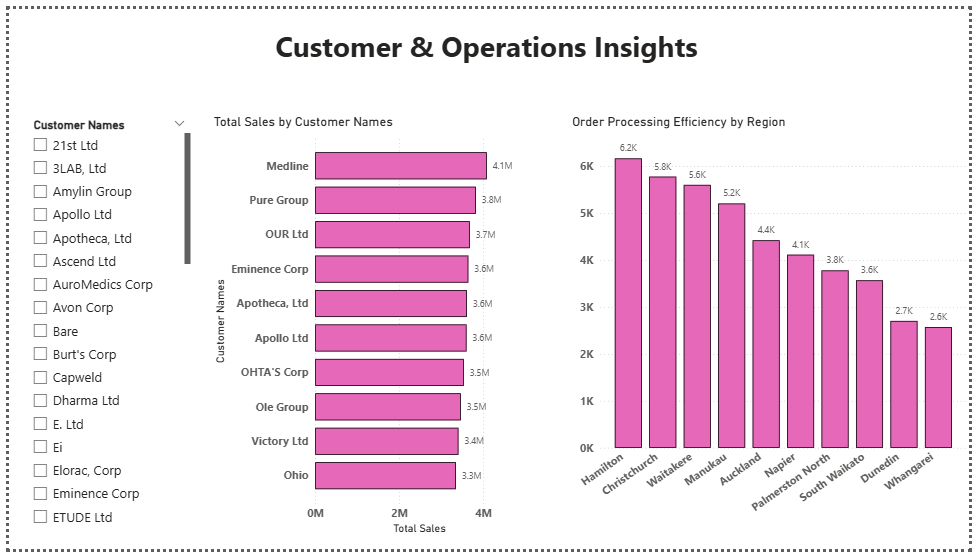

The dashboard page shown, as its layout file describes it:
{"tool":"powerbi","page":{"name":"Customer & Operations Insights","canvas":[1280,720],"ordinal":2},"visuals":[{"type":"slicer","fields":{"Values":["Customers.Customer Names"]},"box":[20,140,226.7,551.7],"z":1000},{"type":"clusteredColumnChart","title":"Order Processing Efficiency by Region","fields":{"Category":["Regions.City"],"Y":["Sum(Sales.Order Processing Days)"]},"box":[745,140,535,551.7],"z":4000},{"type":"clusteredBarChart","fields":{"Category":["Customers.Customer Names"],"Y":["Sales.Total Sales"]},"box":[268.3,140,435,565],"z":4001},{"type":"textbox","box":[20,18.3,1233.3,93.3],"z":4002}]}

Visuals, with their boxes in screenshot pixels (x1, y1, x2, y2), scaled from the page's 1280x720 canvas onto the 976x554 screenshot:
slicer - Customers.Customer Names: Rect(15, 108, 188, 532)
"Order Processing Efficiency by Region" clusteredColumnChart: Rect(568, 108, 975, 532)
clusteredBarChart - Customers.Customer Names x Sales.Total Sales: Rect(205, 108, 536, 542)
textbox: Rect(15, 14, 956, 86)
